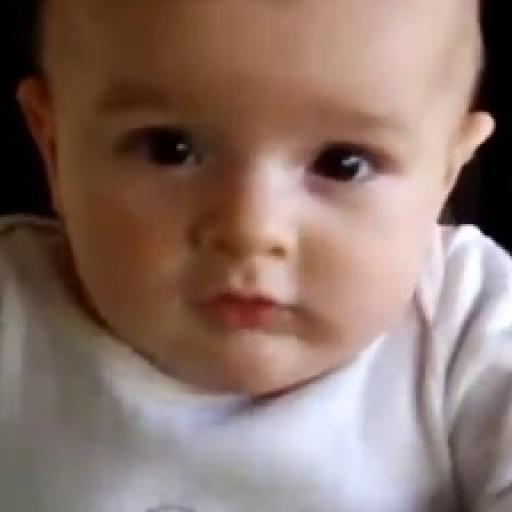Autism: (66, 27, 468, 419)
